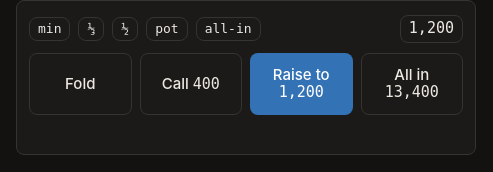
Scenario: the action bar › refuses an entry over the stack, sends nothing, and quotes the maximum
The width and height of the screenshot is (493, 172).
Replace the text in the field named "the total" with "20000". click: (431, 29)
box: [400, 15, 463, 43]
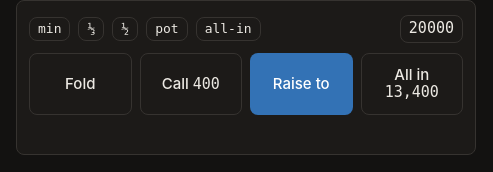
Click the button "Raise to". click: (301, 84)
box: [250, 53, 352, 114]
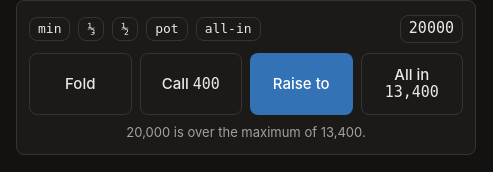
Now the text "20,000 is over the maximum of 13,400." is shown, box [126, 124, 366, 140]
